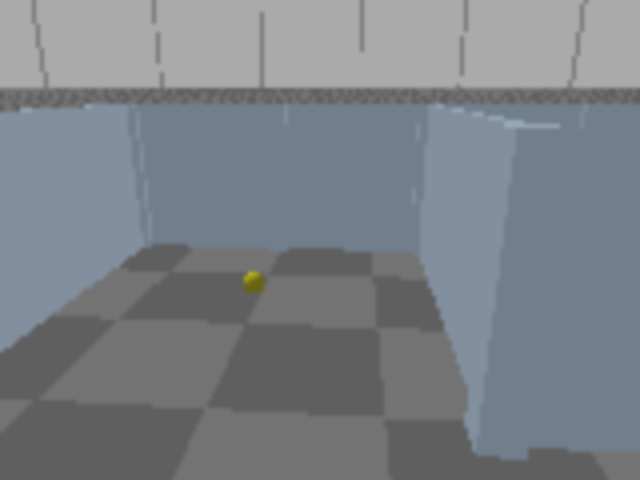puck: (239, 266, 269, 299)
